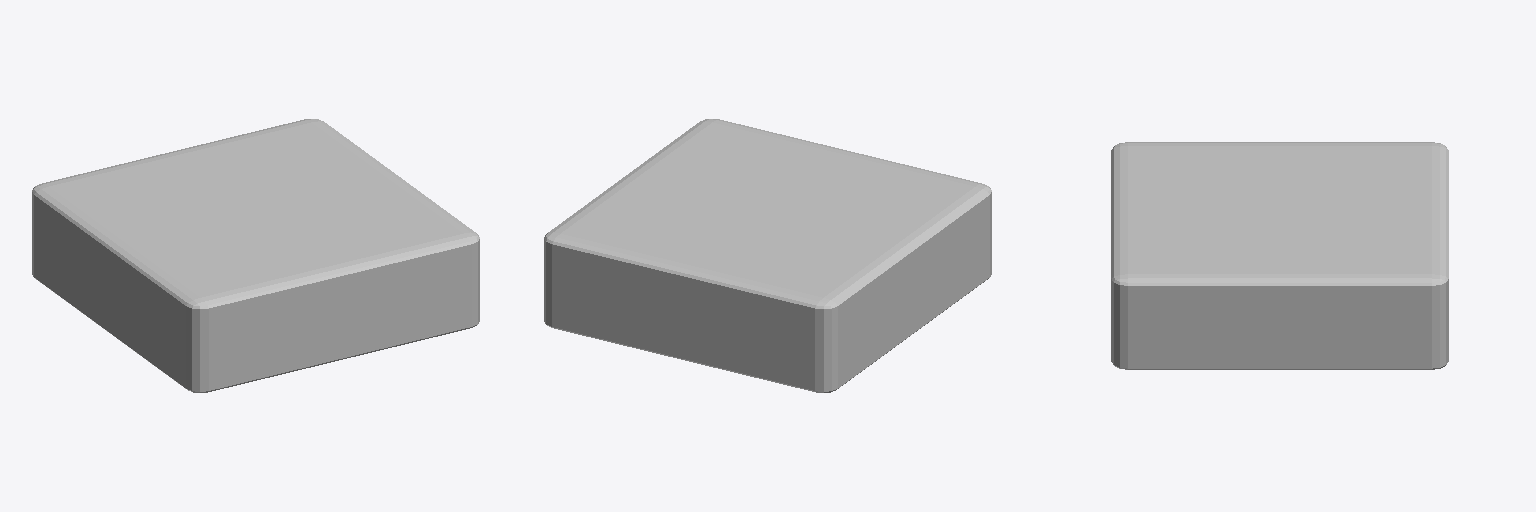
File: clock_button_center.obj
3 views of the same model, side by side, from view 1: azimuth 30°, elevation 25°; view 2: azimuth 150°, elevation 25°; view 3: azimuth 270°, elevation 25° (orthographic).
Visible parts, largest first — view 1: Cube.002_Cube.007; view 2: Cube.002_Cube.007; view 3: Cube.002_Cube.007.
Part boxes in pixels (left/top/right/bottom): Cube.002_Cube.007: left=32, top=119, right=479, bottom=392; Cube.002_Cube.007: left=544, top=119, right=991, bottom=392; Cube.002_Cube.007: left=1111, top=142, right=1448, bottom=369.
Size of the model in its own units: 0.0256 by 0.0077 by 0.0256.